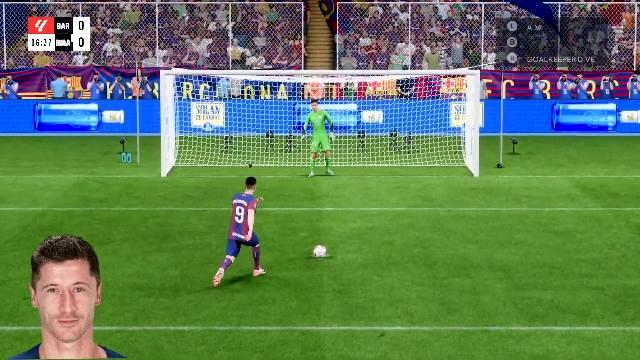bottom-left: (167, 133, 279, 177)
bottom-right: (373, 131, 473, 177)
center-down: (283, 131, 373, 177)
center-up: (284, 78, 368, 126)
football: (312, 246, 328, 257)
goalkeeper: (296, 99, 340, 179)
player: (205, 180, 281, 290)
top-left: (166, 76, 280, 130)
top-right: (372, 76, 474, 124)
